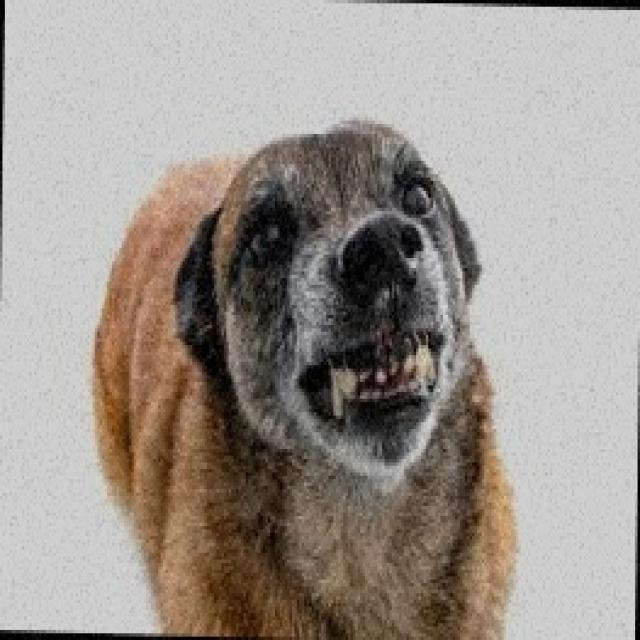angry: (73, 109, 584, 640)
